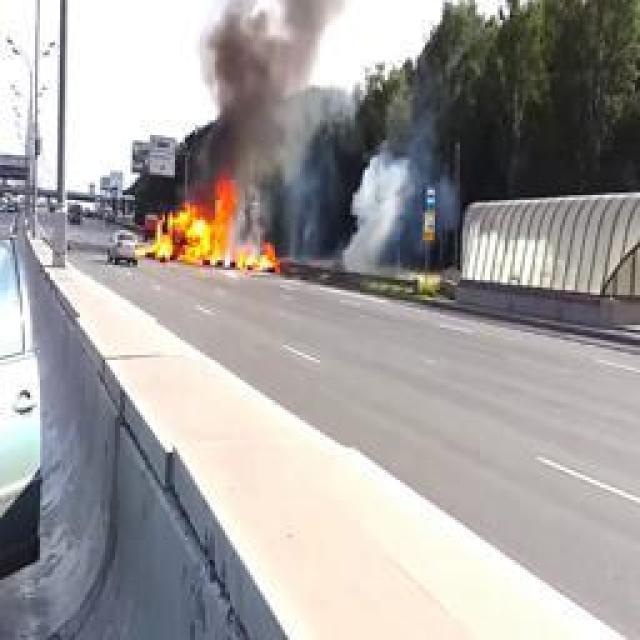Fire: (145, 176, 283, 274)
